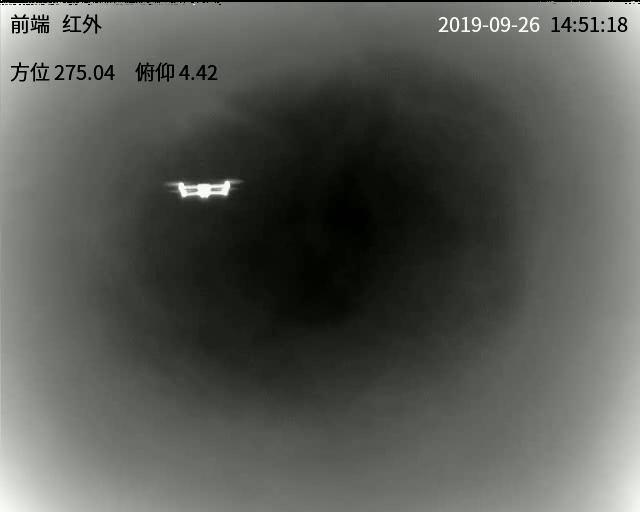DRONE: (170, 178, 236, 199)
